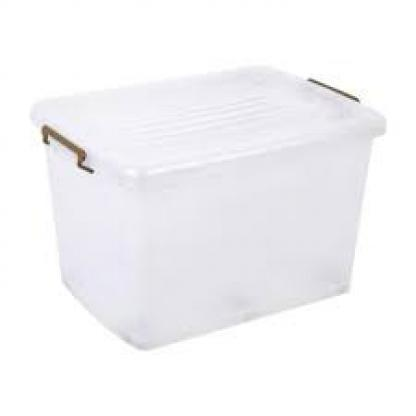plastic_box: (15, 59, 401, 353)
